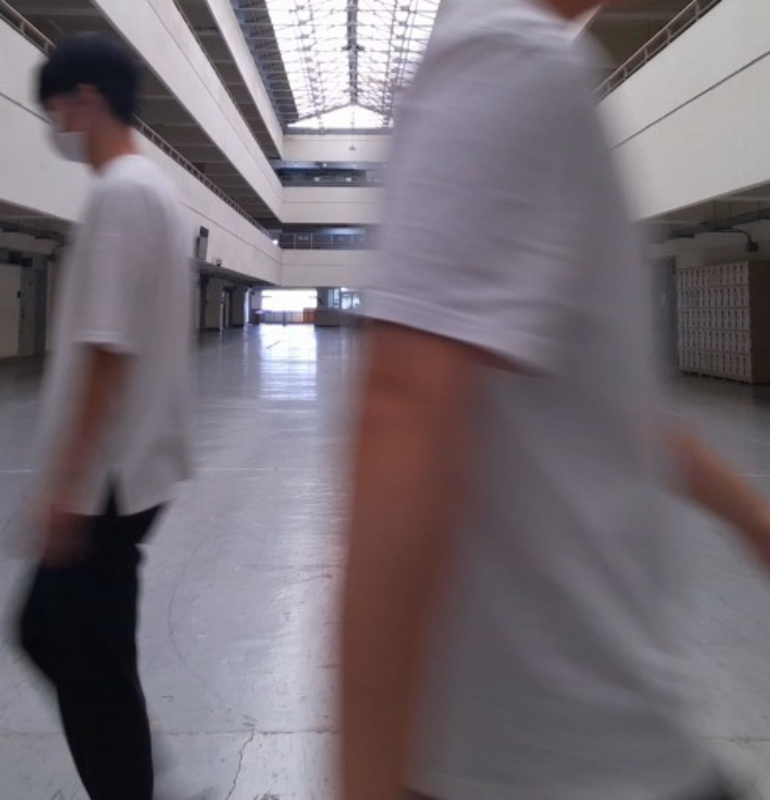person: (7, 34, 201, 800)
